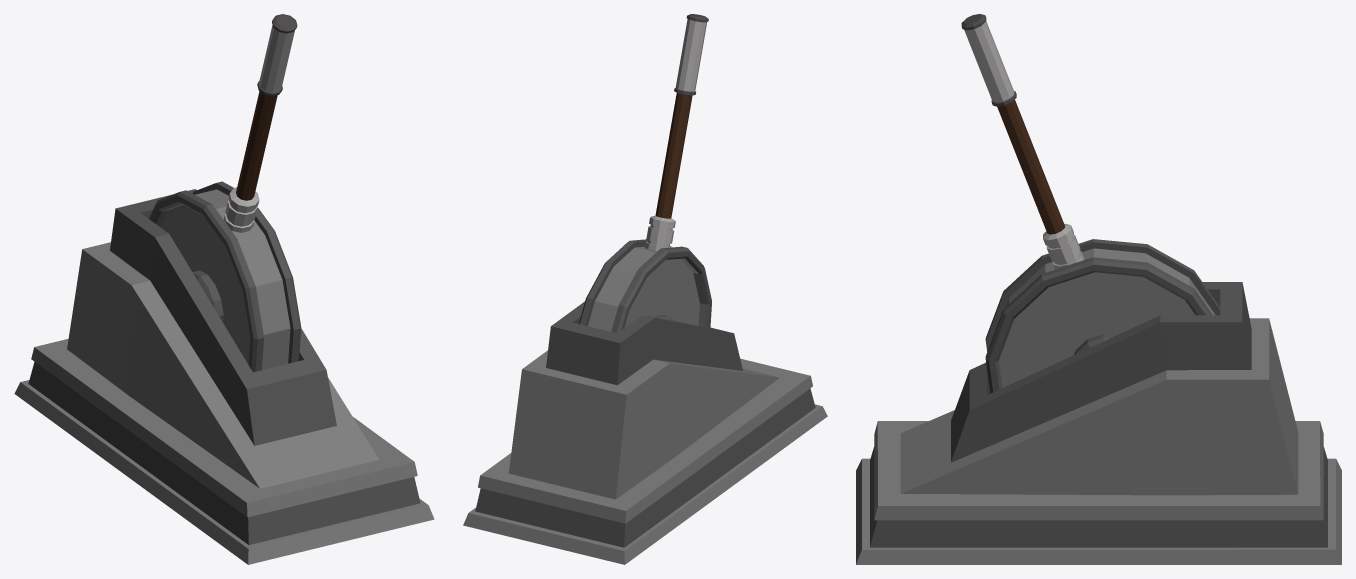
The model's file is StoneFloorLever_5.fbx.
The picture shows the model from 3 angles, left to right: view 1: azimuth 30°, elevation 25°; view 2: azimuth 150°, elevation 25°; view 3: azimuth 270°, elevation 25°; orthographic projection. The views are drawn at different scales.
Parts seen in each view (by area): view 1: StoneFloorLever_5_Casing, StoneFloorLever_5_Handle; view 2: StoneFloorLever_5_Casing, StoneFloorLever_5_Handle; view 3: StoneFloorLever_5_Casing, StoneFloorLever_5_Handle.
Boxes of the visible parts, <box> form: StoneFloorLever_5_Casing: <box>14,189,434,564</box>; StoneFloorLever_5_Handle: <box>149,14,301,372</box>; StoneFloorLever_5_Casing: <box>463,301,827,564</box>; StoneFloorLever_5_Handle: <box>579,14,711,333</box>; StoneFloorLever_5_Casing: <box>856,282,1341,564</box>; StoneFloorLever_5_Handle: <box>961,14,1220,393</box>.
Bounding box in the file's own units: 53.85 × 133 × 117.
